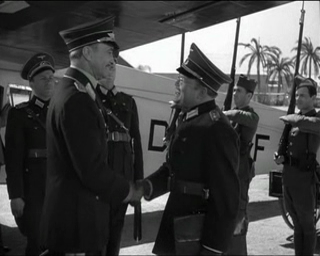face: (98, 44, 116, 79), (173, 73, 190, 104), (37, 70, 55, 96), (294, 90, 308, 108), (232, 86, 244, 103)
mls: (1, 1, 320, 256)
person: (40, 14, 141, 256), (131, 41, 241, 256), (4, 51, 60, 256), (274, 79, 320, 256), (222, 73, 258, 256)
